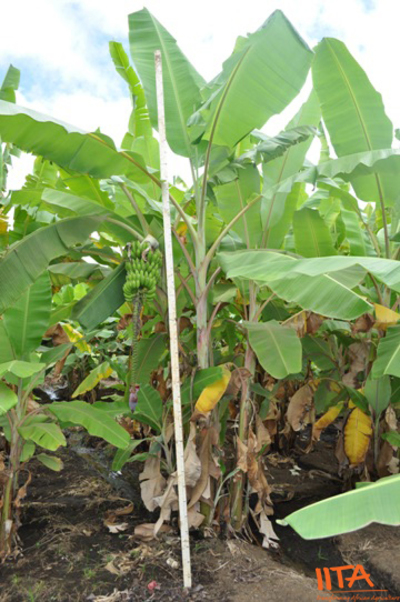bananaHand: (123, 238, 163, 307)
